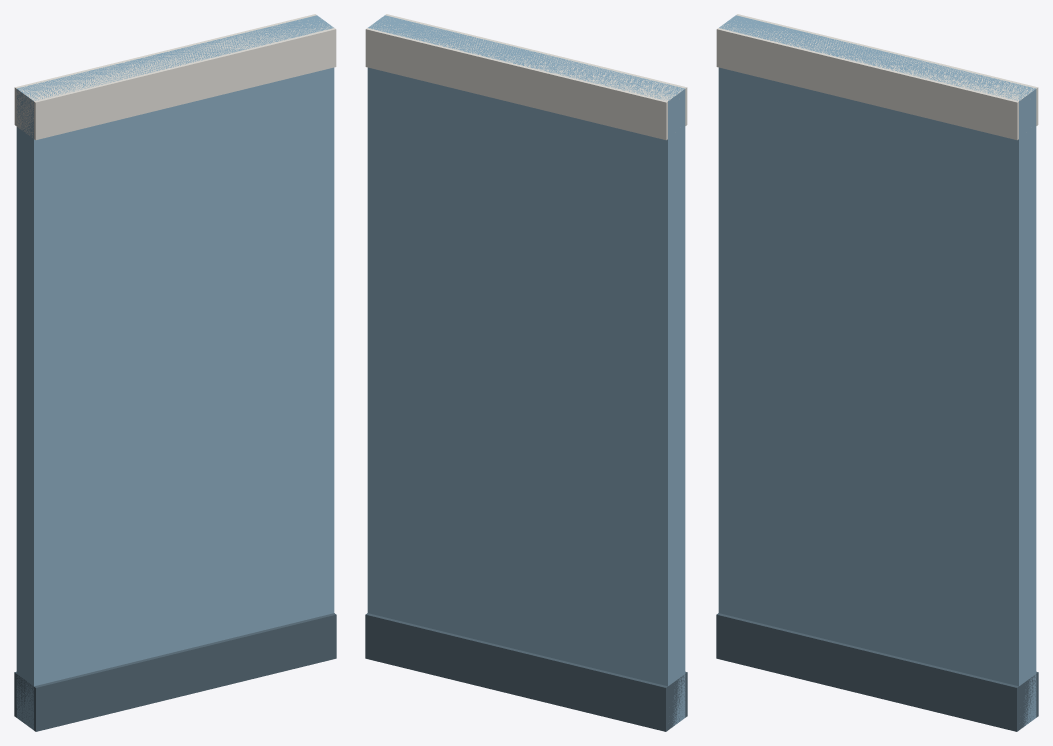
File: mod-reboco-azul.gltf
3 views of the same model, side by side, from view 1: azimuth 30°, elevation 25°; view 2: azimuth 150°, elevation 25°; view 3: azimuth 330°, elevation 25° (orthographic).
Parts seen in each view (by area): view 1: mod-reboco-azul; view 2: mod-reboco-azul; view 3: mod-reboco-azul.
Boxes of the visible parts, box(x1,y1,x2,y2) form: mod-reboco-azul: box(14, 14, 336, 731); mod-reboco-azul: box(365, 14, 687, 731); mod-reboco-azul: box(716, 14, 1038, 731).
Size of the model in its own units: 1 by 2 by 0.124.
